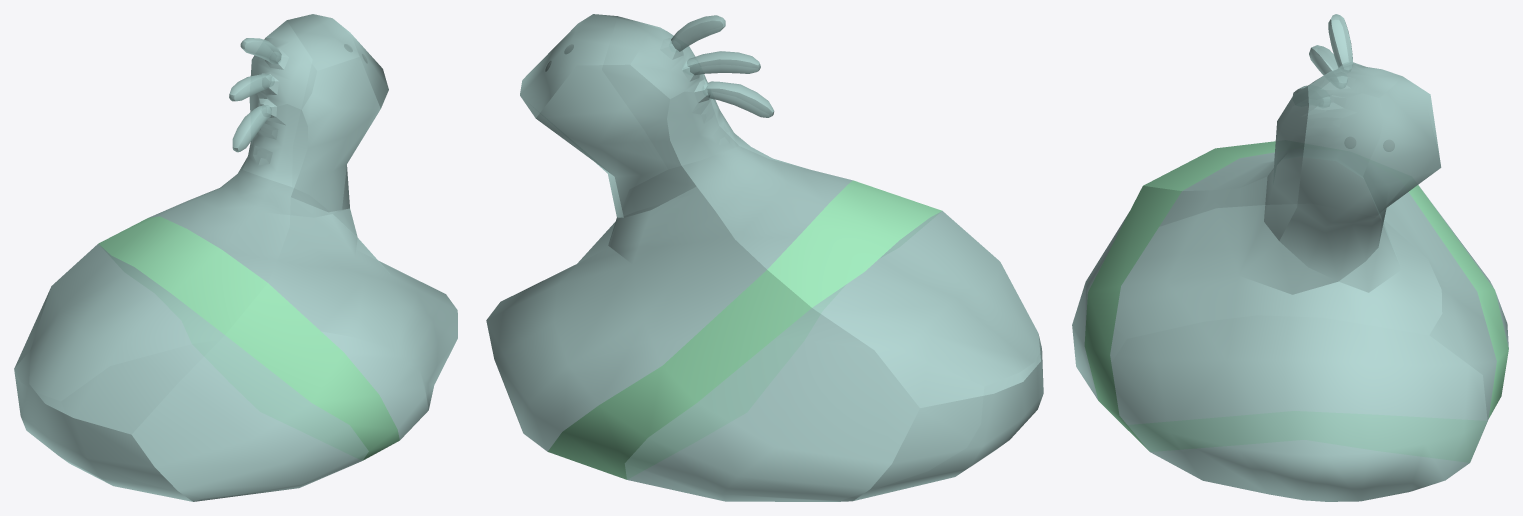
The model's file is main_model.fbx.
3 renders of one model, left to right at view 1: azimuth 30°, elevation 25°; view 2: azimuth 150°, elevation 25°; view 3: azimuth 270°, elevation 25°, orthographic. The views are drawn at different scales.
Parts seen in each view (by area): view 1: body, hair3, hair2, hair1; view 2: body, hair2, hair3, hair1; view 3: body, hair1, hair2.
Boxes of the visible parts, x1,y1,x2,y2 form: body: (14,14,457,501); hair3: (232,105,271,152); hair2: (229,74,274,101); hair1: (240,38,281,63); body: (486,14,1043,501); hair2: (682,51,760,75); hair3: (702,81,774,117); hair1: (669,15,725,52); body: (1072,61,1508,501); hair1: (1328,14,1352,72); hair2: (1309,45,1347,88).
Bounding box in the file's own units: 19.69 × 15.69 × 15.55.
